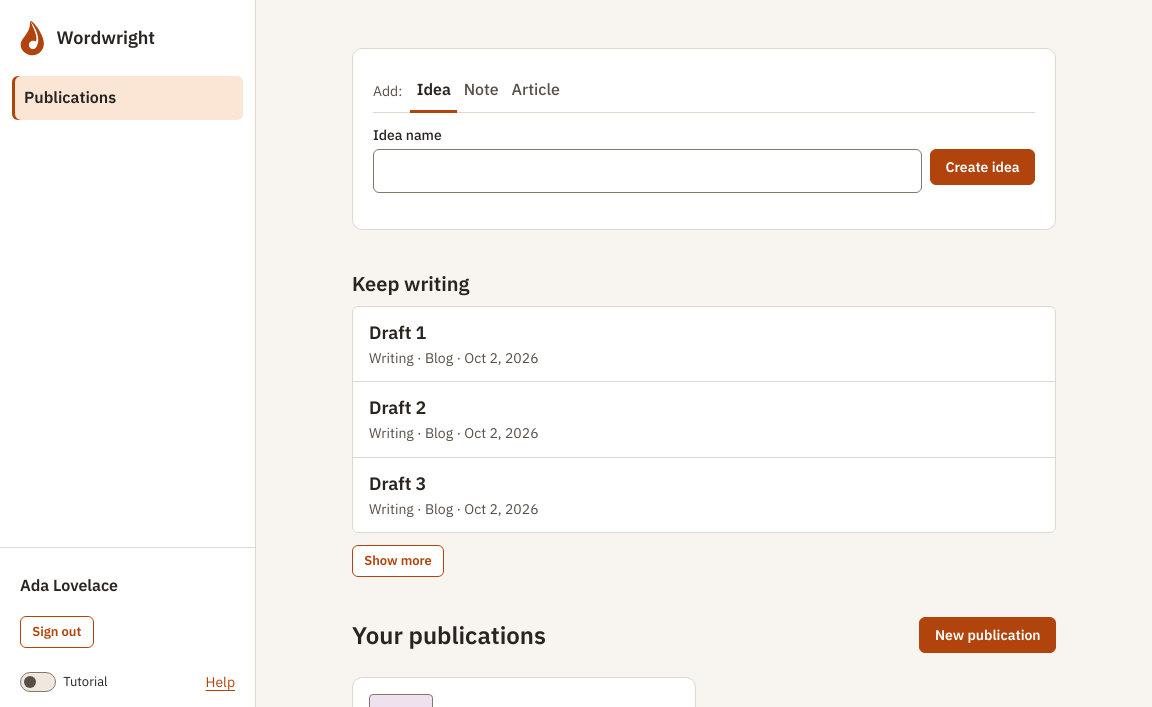
Keep writing, on Home › Show more › starts with three, adds three more below them, moves focus to the first new one, and goes at the end
The image size is (1152, 707).
Click the button "Show more" at (398, 561), box x1=352 y1=545 x2=444 y2=577
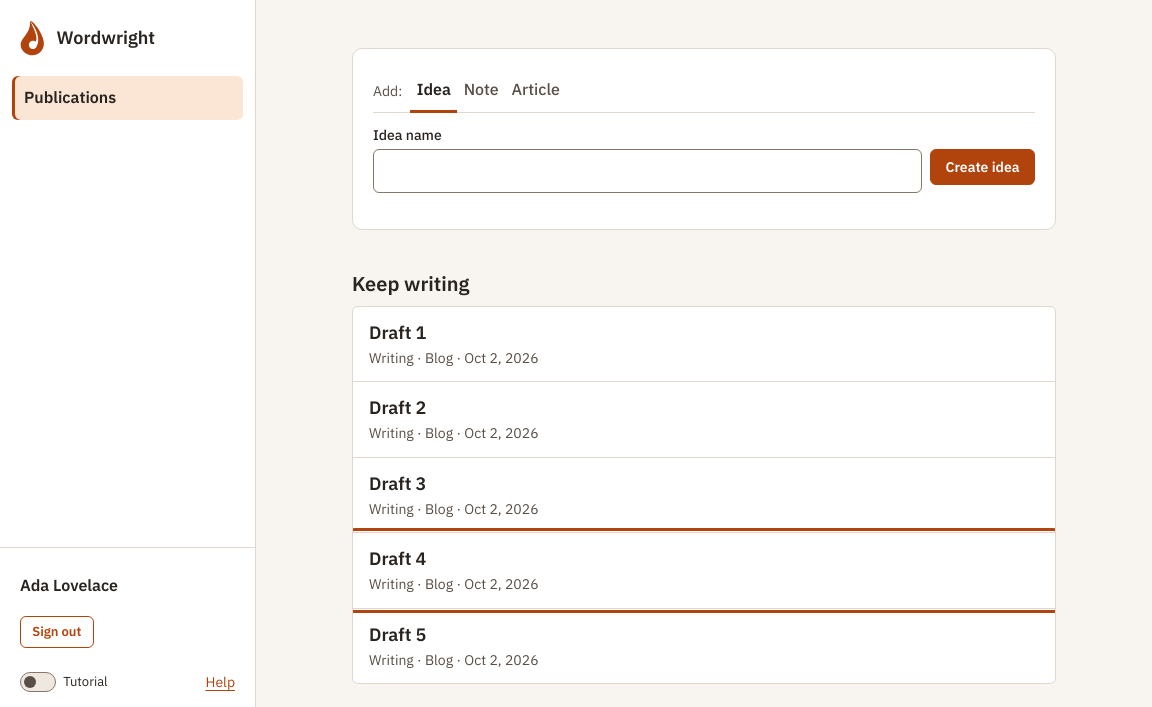
Expected: the list item "Draft 1 Writing · Blog · Oct 2, 2026" is shown, x1=353 y1=307 x2=1055 y2=382
Now the button "Show more" is gone
